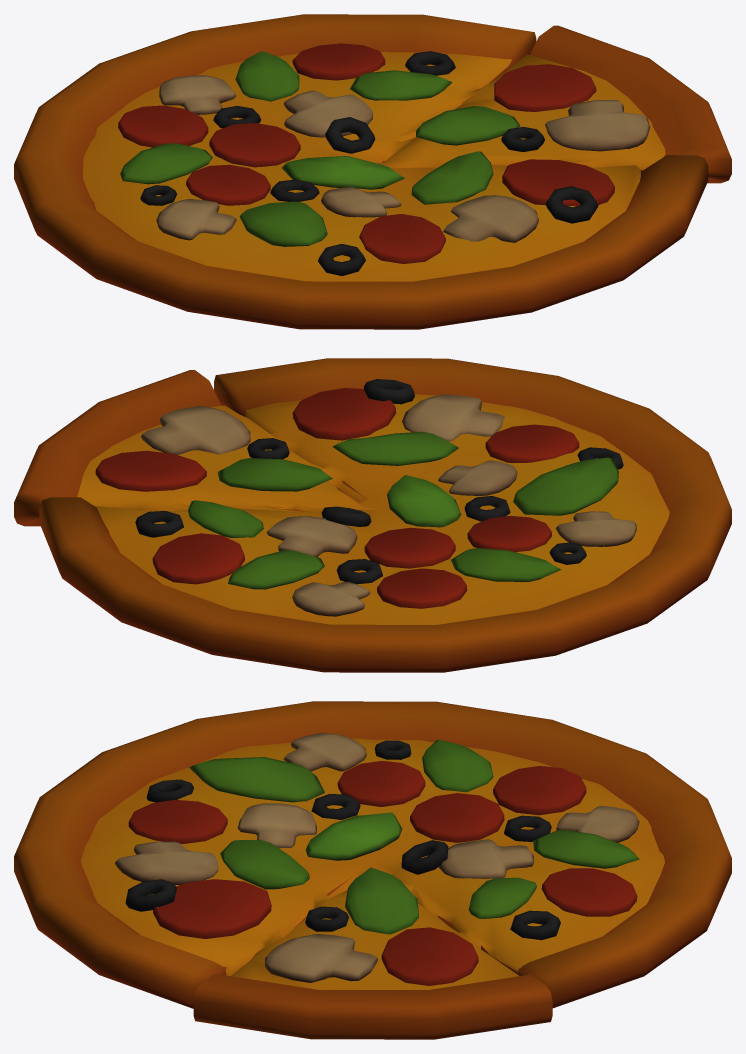
File: pizza.glb
3 renders of one model, top to bottom at view 1: azimuth 30°, elevation 25°; view 2: azimuth 150°, elevation 25°; view 3: azimuth 270°, elevation 25°, orthographic. The views are drawn at different scales.
Parts seen in each view (by area): view 1: geometry_0; view 2: geometry_0; view 3: geometry_0.
Part boxes in pixels (left/top/right/bottom): geometry_0: left=14, top=14, right=731, bottom=329; geometry_0: left=14, top=358, right=731, bottom=672; geometry_0: left=14, top=701, right=731, bottom=1039.
Bounding box in the file's own units: 0.2882 × 0.021 × 0.2808.
1 material, 1 textured.
